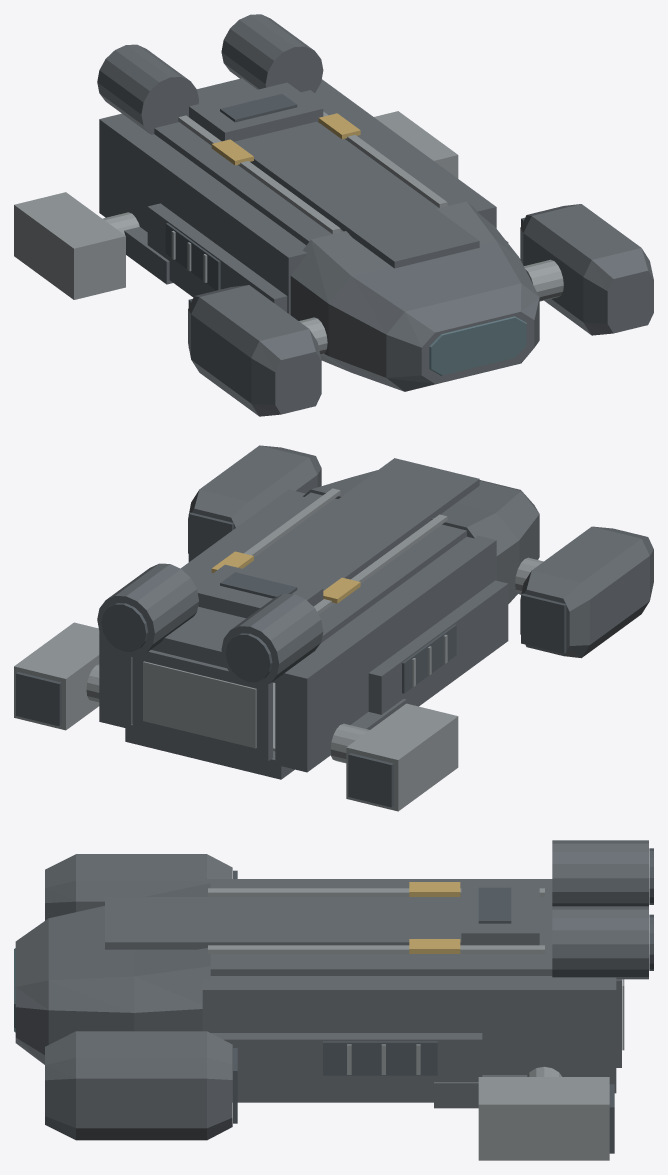
The model's file is shipit_black_off.glb.
3 views of the same model, one above another, from view 1: azimuth 30°, elevation 25°; view 2: azimuth 150°, elevation 25°; view 3: azimuth 270°, elevation 25° (orthographic). The views are drawn at different scales.
Visible parts, largest first — view 1: body_0, engine_L_pivot_housing, engine_R_pivot_housing, rear_L_pivot_housing, body_1, body_2, body_4, rear_R_pivot_housing, body_3; view 2: body_0, engine_L_pivot_housing, rear_L_pivot_housing, cargo_ramp_detail, body_4, engine_R_pivot_housing, rear_R_pivot_housing, body_1, cargo_ramp_panel, engine_L_pivot_nozzle, rear_L_pivot_nozzle, rear_R_pivot_nozzle (+2 smaller); view 3: body_0, engine_R_pivot_housing, rear_R_pivot_housing, engine_L_pivot_housing, body_4, body_1, body_3, cargo_ramp_panel.
Part boxes in pixels (x1=…): body_0: x1=97, y1=14, x2=539, y2=391; engine_L_pivot_housing: x1=188, y1=285, x2=321, y2=416; engine_R_pivot_housing: x1=520, y1=204, x2=653, y2=335; rear_L_pivot_housing: x1=14, y1=192, x2=125, y2=299; body_1: x1=102, y1=111, x2=563, y2=354; body_2: x1=429, y1=316, x2=526, y2=375; body_4: x1=165, y1=94, x2=297, y2=290; rear_R_pivot_housing: x1=374, y1=111, x2=458, y2=178; body_3: x1=211, y1=113, x2=360, y2=165; body_0: x1=97, y1=458, x2=539, y2=779; engine_L_pivot_housing: x1=520, y1=526, x2=653, y2=658; rear_L_pivot_housing: x1=346, y1=703, x2=458, y2=811; cargo_ramp_detail: x1=143, y1=661, x2=256, y2=748; body_4: x1=101, y1=572, x2=456, y2=693; engine_R_pivot_housing: x1=188, y1=445, x2=321, y2=553; rear_R_pivot_housing: x1=14, y1=622, x2=99, y2=730; body_1: x1=86, y1=488, x2=543, y2=763; cargo_ramp_panel: x1=132, y1=650, x2=272, y2=760; engine_L_pivot_nozzle: x1=521, y1=593, x2=566, y2=653; rear_L_pivot_nozzle: x1=348, y1=753, x2=393, y2=807; rear_R_pivot_nozzle: x1=16, y1=672, x2=61, y2=726; body_0: x1=15, y1=840, x2=648, y2=1108; engine_R_pivot_housing: x1=45, y1=1031, x2=232, y2=1140; rear_R_pivot_housing: x1=478, y1=1077, x2=609, y2=1160; engine_L_pivot_housing: x1=45, y1=854, x2=232, y2=920; body_4: x1=323, y1=848, x2=653, y2=1075; body_1: x1=208, y1=888, x2=561, y2=1076; body_3: x1=409, y1=882, x2=460, y2=953; cargo_ramp_panel: x1=616, y1=979, x2=621, y2=1067.
Size of the model in its own units: 2.76 by 1.1 by 3.51.
